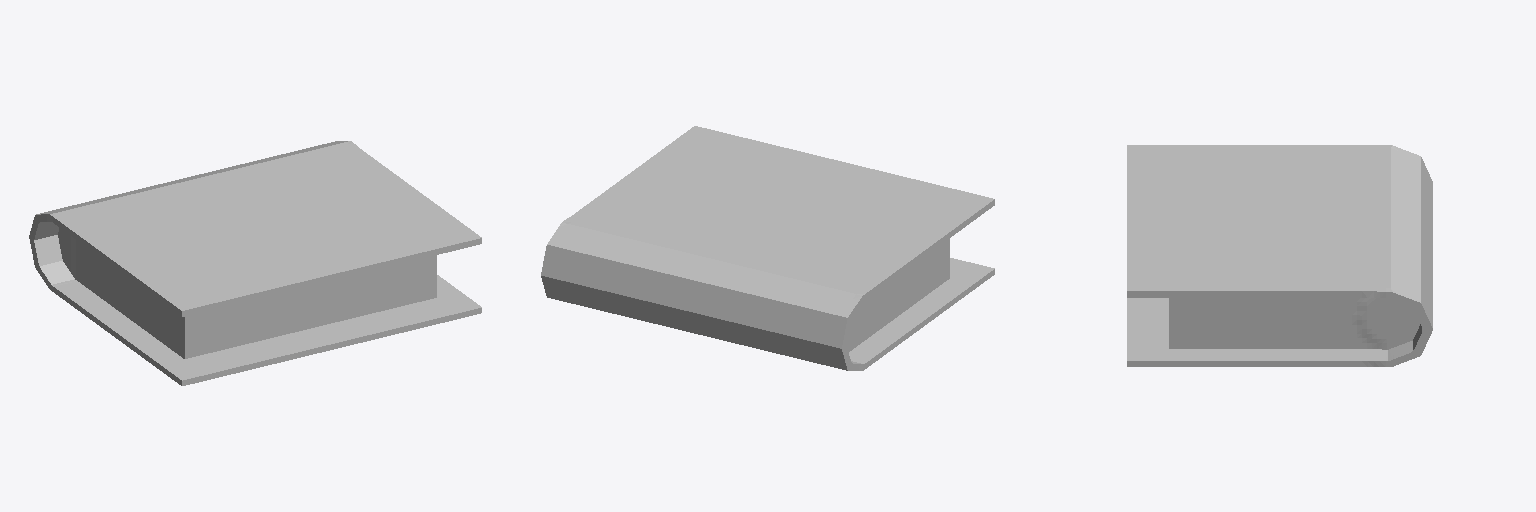
The model's file is Book.obj.
3 views of the same model, side by side, from view 1: azimuth 30°, elevation 25°; view 2: azimuth 150°, elevation 25°; view 3: azimuth 270°, elevation 25° (orthographic).
Parts seen in each view (by area): view 1: Cylinder.002, Cylinder; view 2: Cylinder.002, Cylinder; view 3: Cylinder.002, Cylinder.
Part boxes in pixels (left/top/right/bottom): Cylinder.002: left=29, top=141, right=481, bottom=385; Cylinder: left=58, top=228, right=436, bottom=358; Cylinder.002: left=541, top=126, right=994, bottom=370; Cylinder: left=847, top=239, right=949, bottom=351; Cylinder.002: left=1127, top=145, right=1432, bottom=366; Cylinder: left=1169, top=298, right=1419, bottom=349.
Bounding box in the file's own units: 2.38 × 0.57 × 2.1.